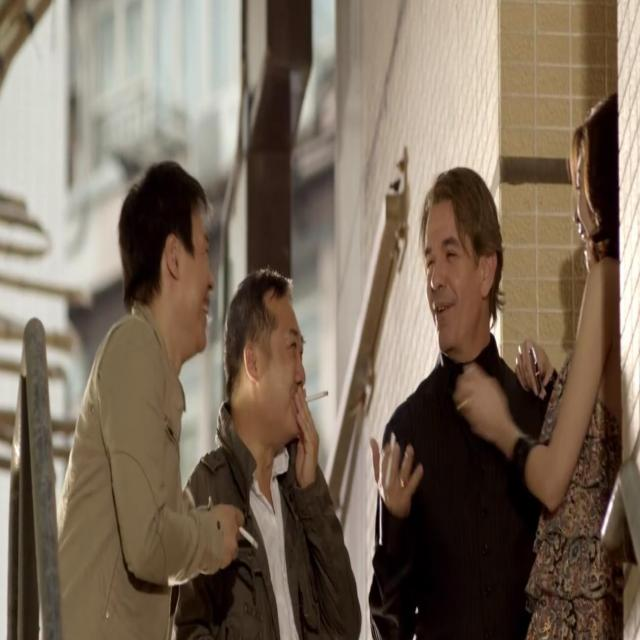cigarette: (384, 436, 399, 494), (237, 515, 260, 552), (308, 382, 332, 411), (530, 344, 540, 370)
